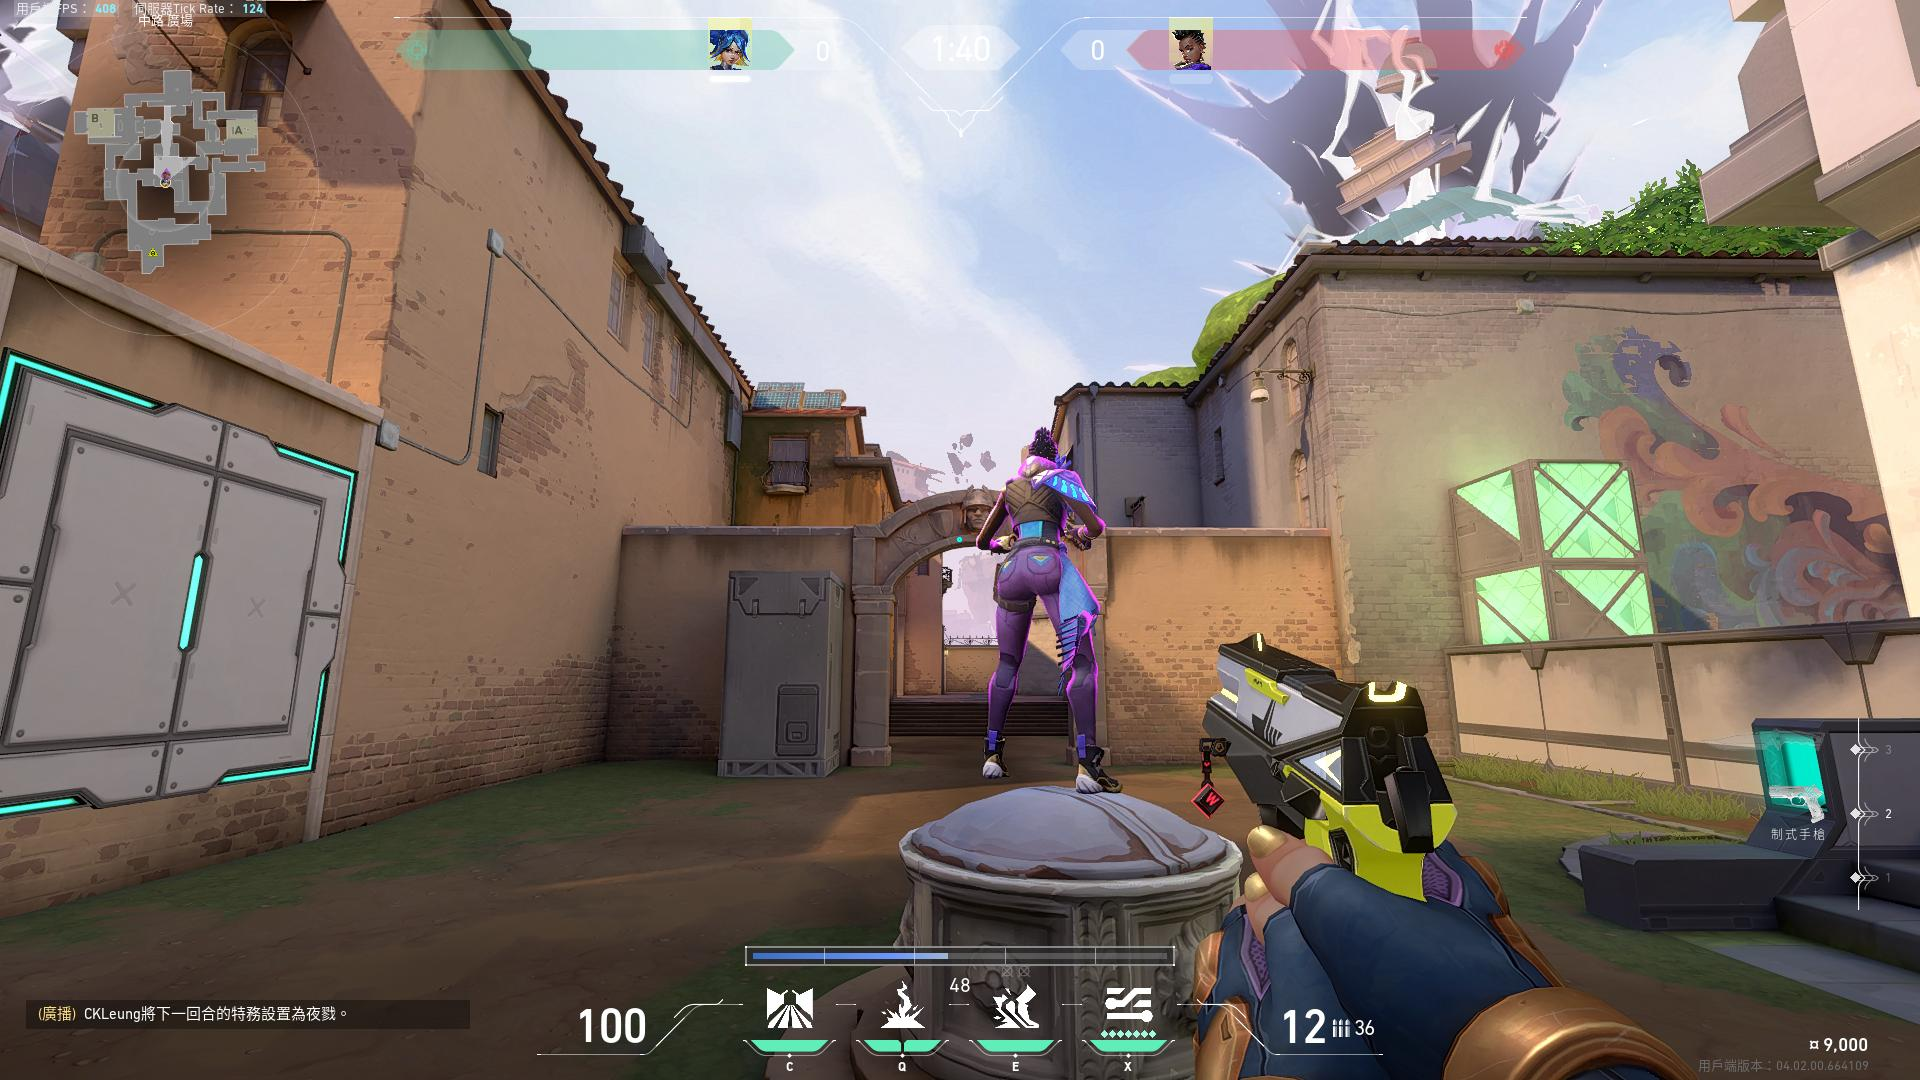enemyBody: (998, 475, 1088, 611), (1029, 425, 1062, 465)
enemyHead: (1036, 443, 1046, 444)
